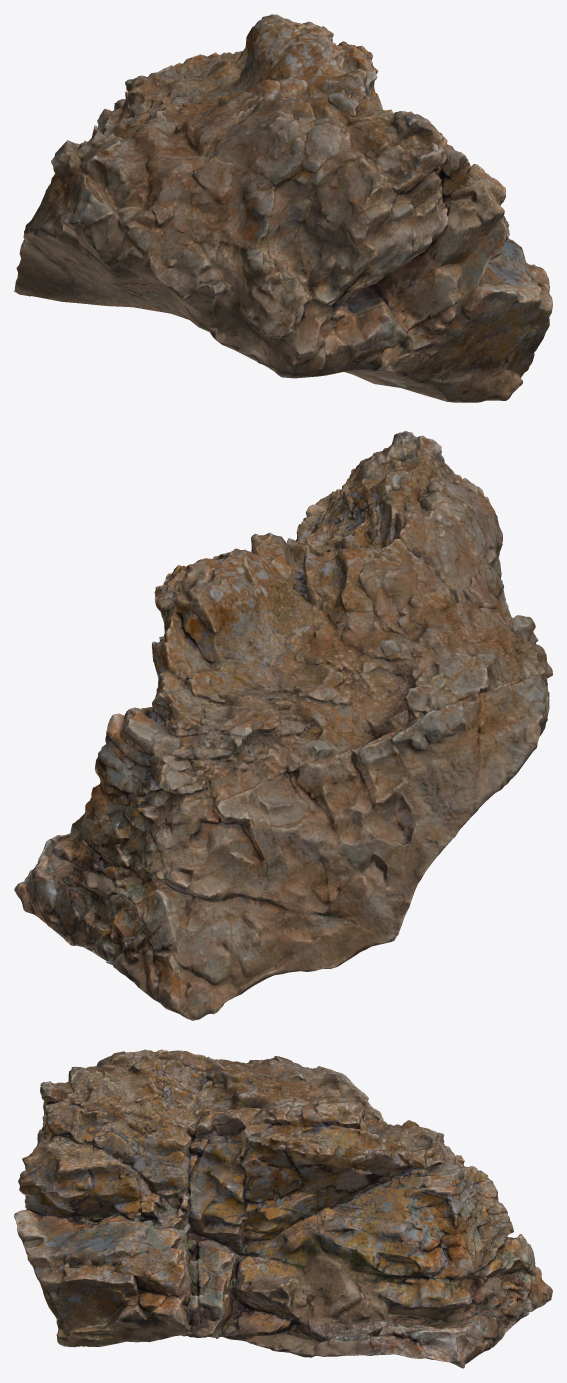
The model's file is boulder-01.glb.
3 views of the same model, one above another, from view 1: azimuth 30°, elevation 25°; view 2: azimuth 150°, elevation 25°; view 3: azimuth 270°, elevation 25° (orthographic). The views are drawn at different scales.
Visible parts, largest first — view 1: boulder_01; view 2: boulder_01; view 3: boulder_01.
Boxes of the visible parts, x1=… form: boulder_01: x1=14, y1=14, x2=552, y2=402; boulder_01: x1=14, y1=431, x2=552, y2=1020; boulder_01: x1=14, y1=1049, x2=552, y2=1368.
Bounding box in the file's own units: 1.27 × 1 × 1.83.
1 material, 1 textured.
